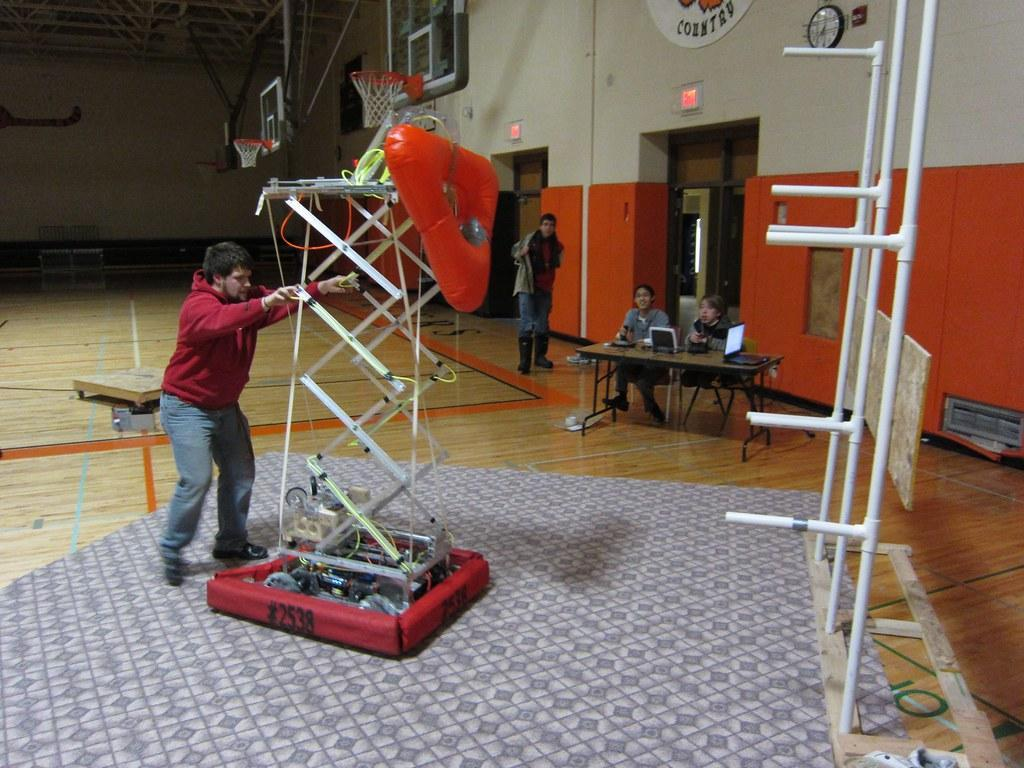robot: (202, 108, 509, 677)
